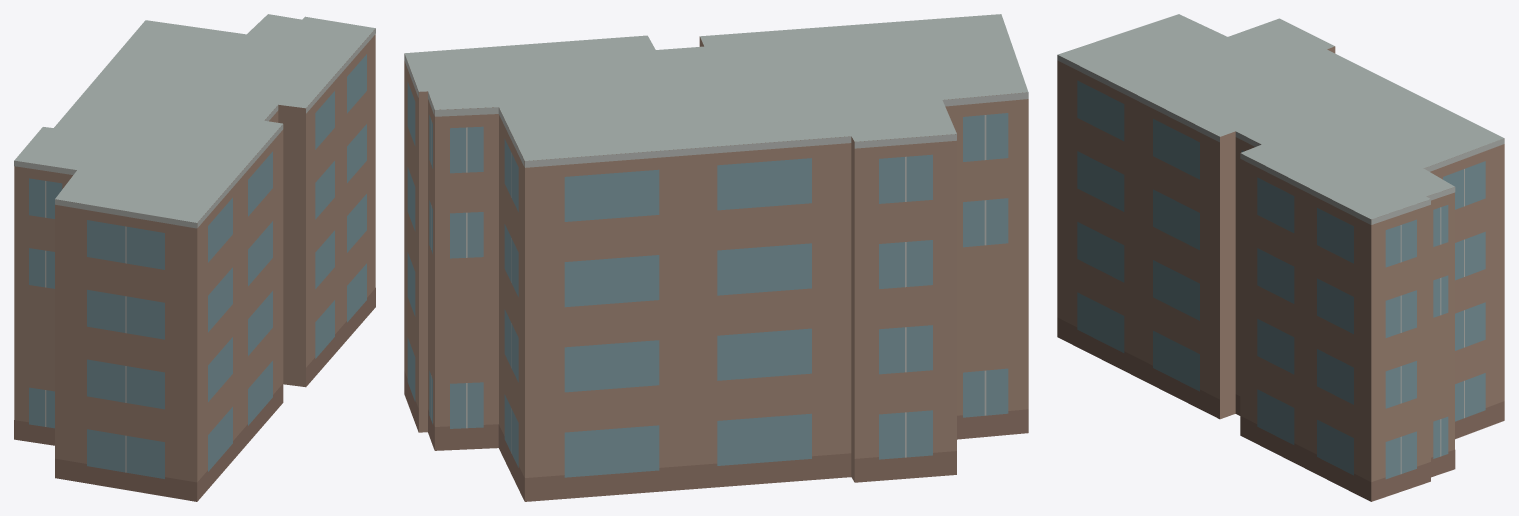
File: survey-upis-32756176.glb
3 renders of one model, left to right at view 1: azimuth 30°, elevation 25°; view 2: azimuth 150°, elevation 25°; view 3: azimuth 270°, elevation 25°, orthographic. The views are drawn at different scales.
Parts seen in each view (by area): view 1: survey-upis-32756176.tmp; view 2: survey-upis-32756176.tmp; view 3: survey-upis-32756176.tmp.
Boxes of the visible parts, x1=… form: survey-upis-32756176.tmp: x1=14, y1=14, x2=375, y2=501; survey-upis-32756176.tmp: x1=404, y1=14, x2=1028, y2=501; survey-upis-32756176.tmp: x1=1057, y1=14, x2=1504, y2=501.
Size of the model in its own units: 19.04 by 12.2 by 17.51.
